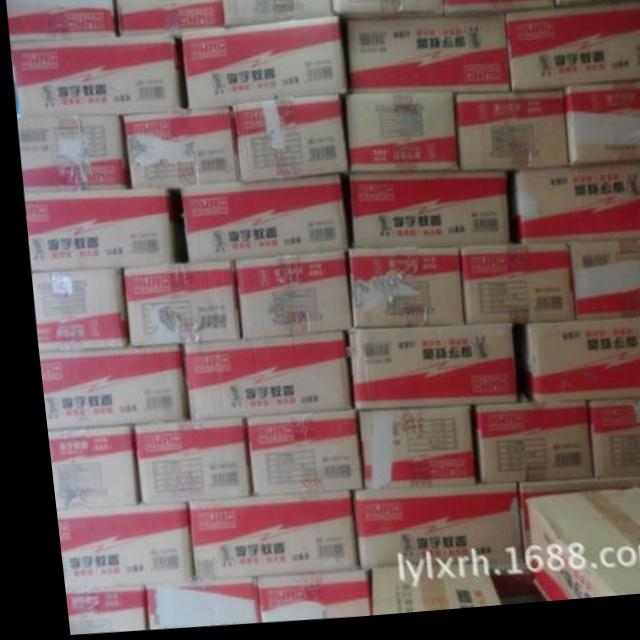box: (173, 496, 347, 583), (171, 336, 345, 421), (338, 491, 513, 575), (179, 22, 345, 110), (512, 497, 640, 609), (176, 180, 344, 265), (340, 329, 506, 415), (8, 37, 180, 117), (346, 21, 509, 99), (31, 346, 178, 430), (343, 177, 504, 253), (44, 503, 183, 590), (19, 190, 168, 270), (504, 12, 640, 98), (504, 324, 640, 407), (462, 397, 582, 490), (507, 174, 640, 250), (125, 420, 240, 506), (229, 100, 345, 184), (345, 413, 465, 493), (118, 265, 235, 347), (228, 257, 342, 341), (235, 416, 351, 498), (119, 109, 235, 189), (342, 253, 457, 333), (453, 251, 567, 331), (13, 111, 125, 191), (343, 99, 454, 177), (455, 99, 563, 175), (25, 269, 120, 349), (38, 425, 128, 509), (562, 91, 640, 175), (356, 571, 485, 619), (562, 249, 640, 328), (132, 581, 245, 630), (242, 578, 355, 624), (579, 405, 640, 488), (6, 0, 117, 42), (115, 0, 224, 39), (52, 587, 132, 633), (222, 0, 332, 30), (509, 486, 640, 509), (330, 0, 445, 25), (444, 0, 555, 22)
